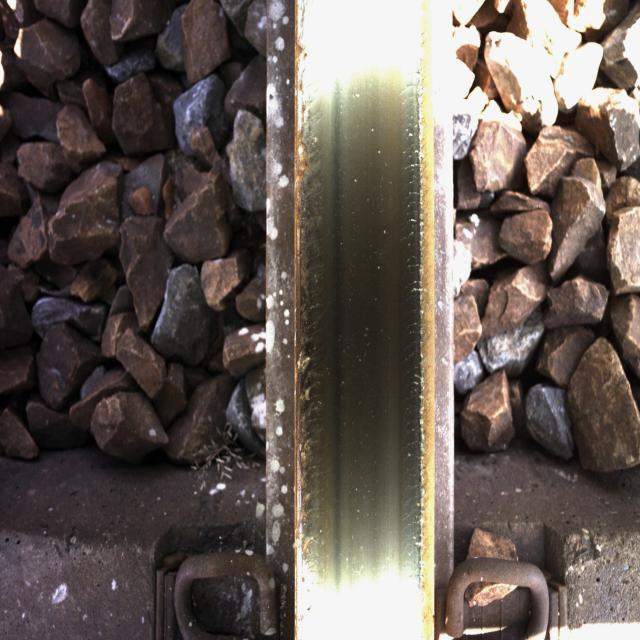normal: (299, 38, 376, 568)
